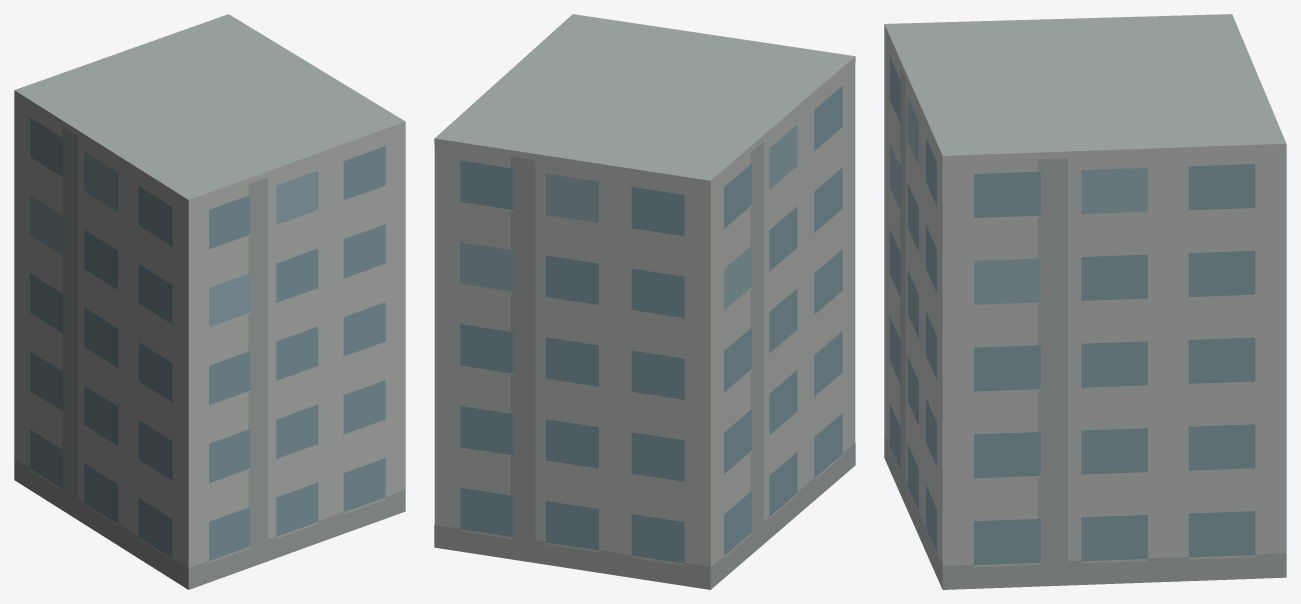
Rendered from survey-upis-33014273.glb.
3 renders of one model, left to right at view 1: azimuth 30°, elevation 25°; view 2: azimuth 150°, elevation 25°; view 3: azimuth 270°, elevation 25°, orthographic. The views are drawn at different scales.
Visible parts, largest first — view 1: survey-upis-33014273.tmp; view 2: survey-upis-33014273.tmp; view 3: survey-upis-33014273.tmp.
Part boxes in pixels (x1,y1,x2,y2): survey-upis-33014273.tmp: [14, 14, 405, 589]; survey-upis-33014273.tmp: [434, 14, 855, 589]; survey-upis-33014273.tmp: [884, 14, 1286, 589].
Bounding box in the file's own units: 10.88 × 15.5 × 13.03.
